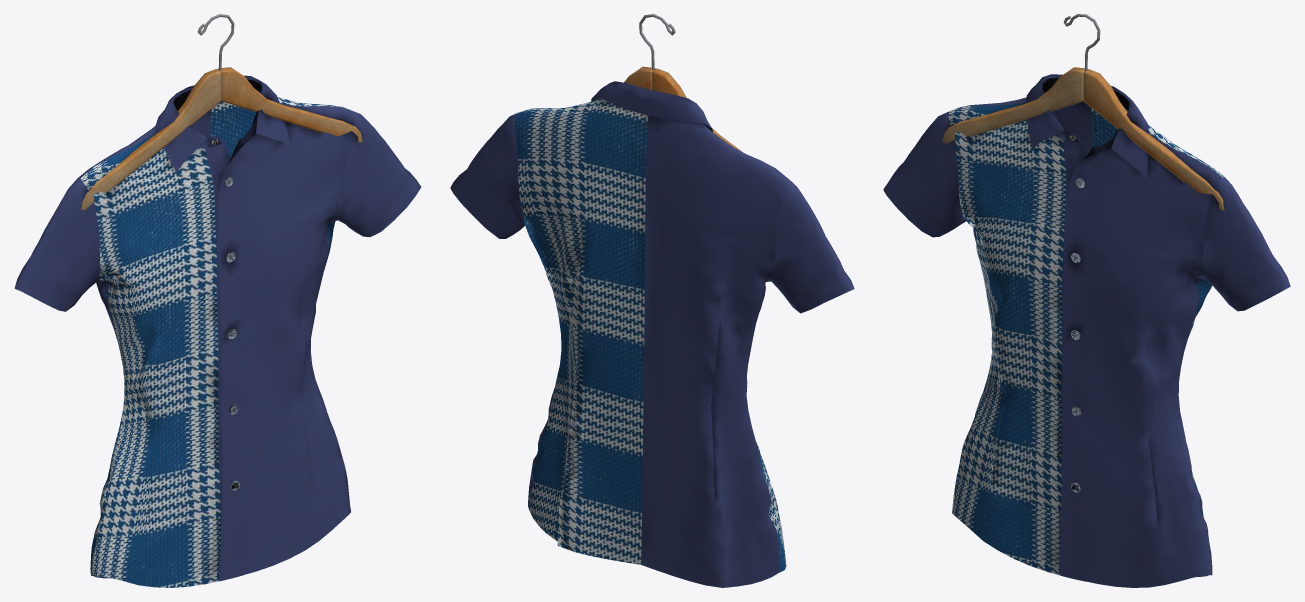
The model's file is checkshirt.glb.
3 views of the same model, side by side, from view 1: azimuth 30°, elevation 25°; view 2: azimuth 150°, elevation 25°; view 3: azimuth 330°, elevation 25° (orthographic).
Visible parts, largest first — view 1: garment, hanger; view 2: garment, hanger; view 3: garment, hanger.
Boxes of the visible parts, x1=… form: garment: x1=14, y1=75, x2=421, y2=587; hanger: x1=81, y1=14, x2=362, y2=210; garment: x1=450, y1=81, x2=854, y2=587; hanger: x1=624, y1=14, x2=741, y2=151; garment: x1=883, y1=74, x2=1290, y2=587; hanger: x1=942, y1=14, x2=1224, y2=210.
Bounding box in the file's own units: 0.6325 × 0.825 × 0.07.
5 materials, 4 textured.
